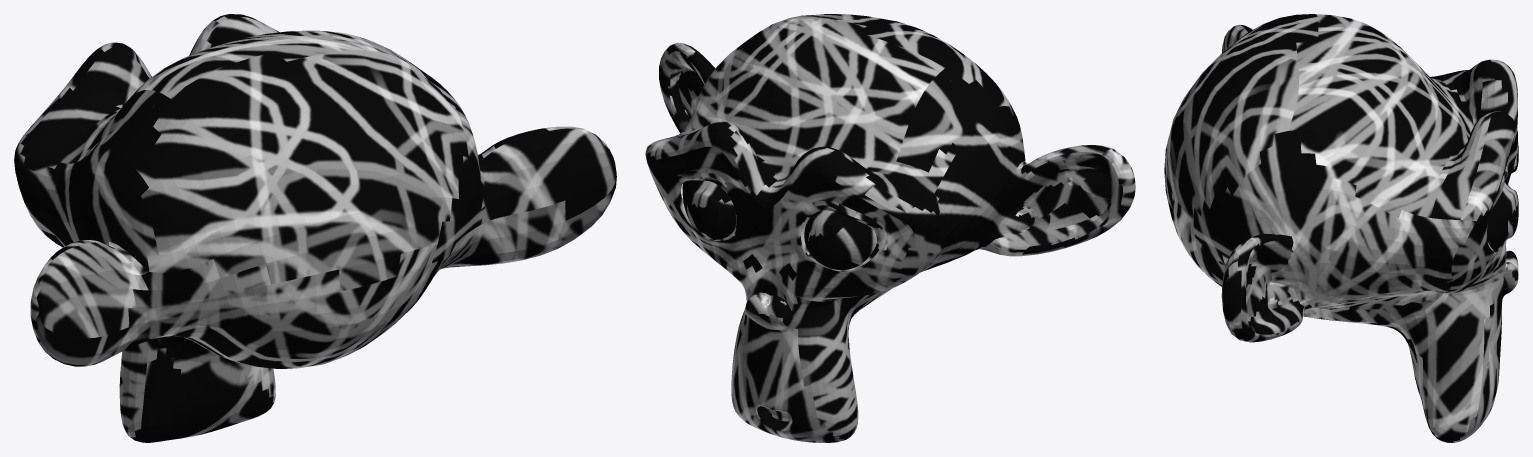
Rendered from monkey.fbx.
3 views of the same model, side by side, from view 1: azimuth 30°, elevation 25°; view 2: azimuth 150°, elevation 25°; view 3: azimuth 270°, elevation 25° (orthographic). The views are drawn at different scales.
Visible parts, largest first — view 1: Suzanne; view 2: Suzanne; view 3: Suzanne.
Boxes of the visible parts, x1=… form: Suzanne: x1=14, y1=14, x2=616, y2=442; Suzanne: x1=645, y1=14, x2=1135, y2=442; Suzanne: x1=1164, y1=14, x2=1518, y2=442.
Bounding box in the file's own units: 2.66 × 1.92 × 1.61.
1 material, 1 textured.
